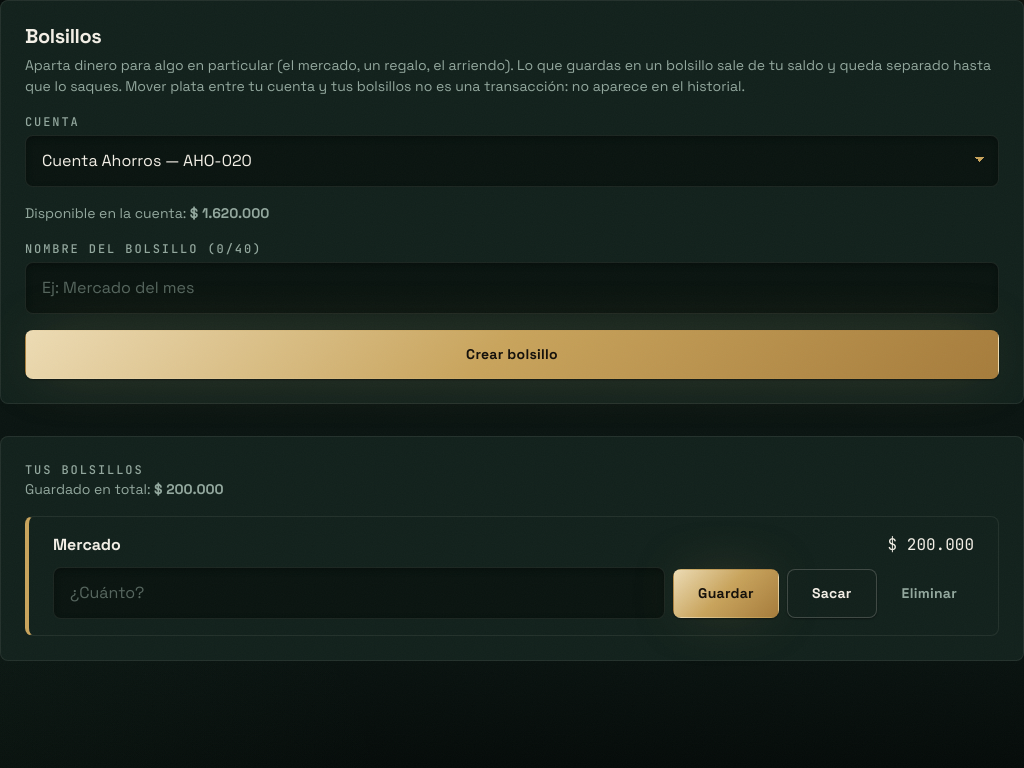
Test: Bolsillos (mover plata propia: no es una transacción) › crear un bolsillo envía su nombre y vuelve a leer la lista
Expected: the text "Mercado" is shown, 53,533 -> 121,557
In the field labelled "Nombre del bolsillo (0/40)": (512, 288) 25,262 -> 999,314, type "Viaje"
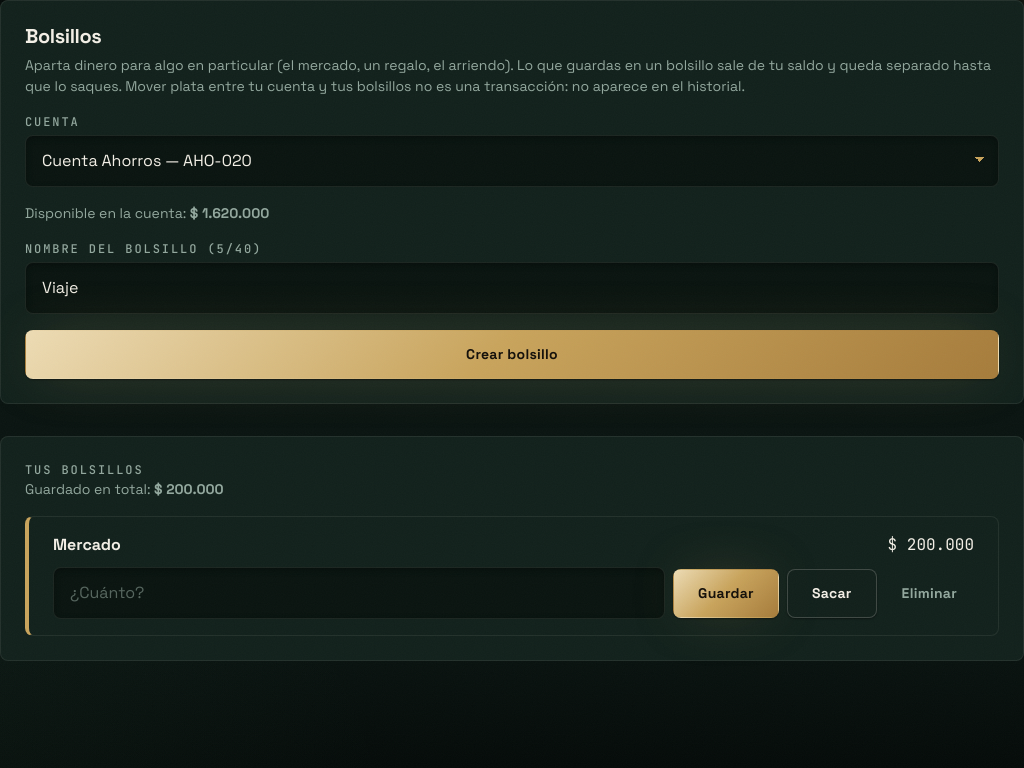
Click the button "Crear bolsillo": (512, 355) 25,330 -> 999,379
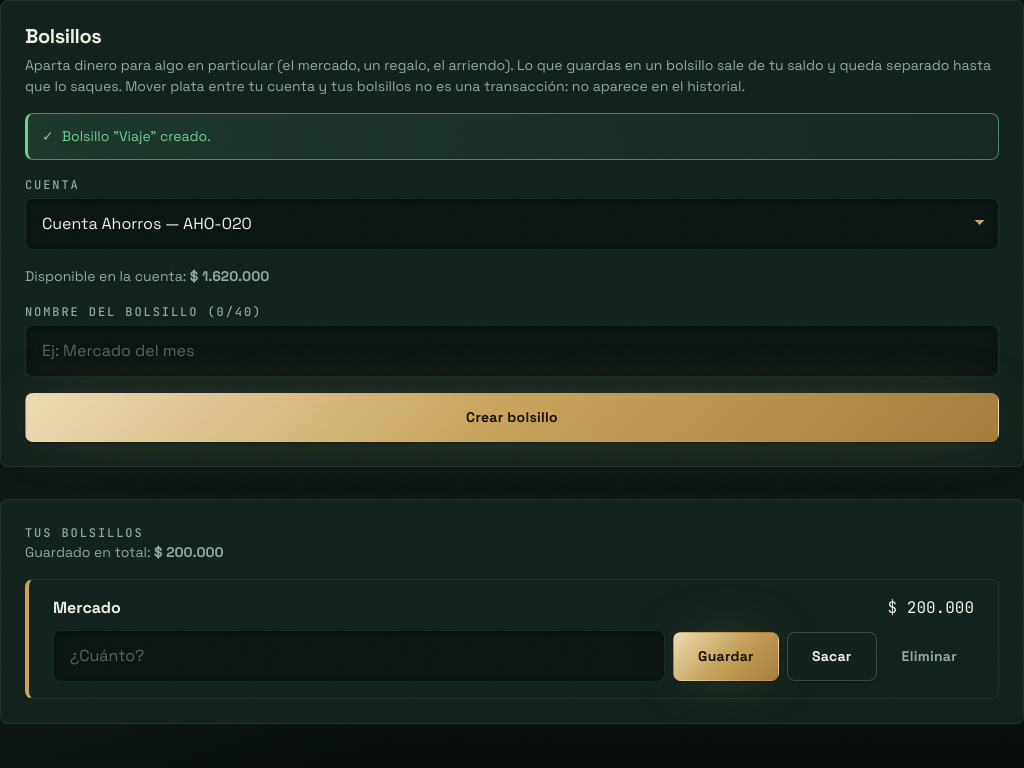
Expected: the message shows "Bolsillo \"Viaje\" creado.", 62,127 -> 210,145
